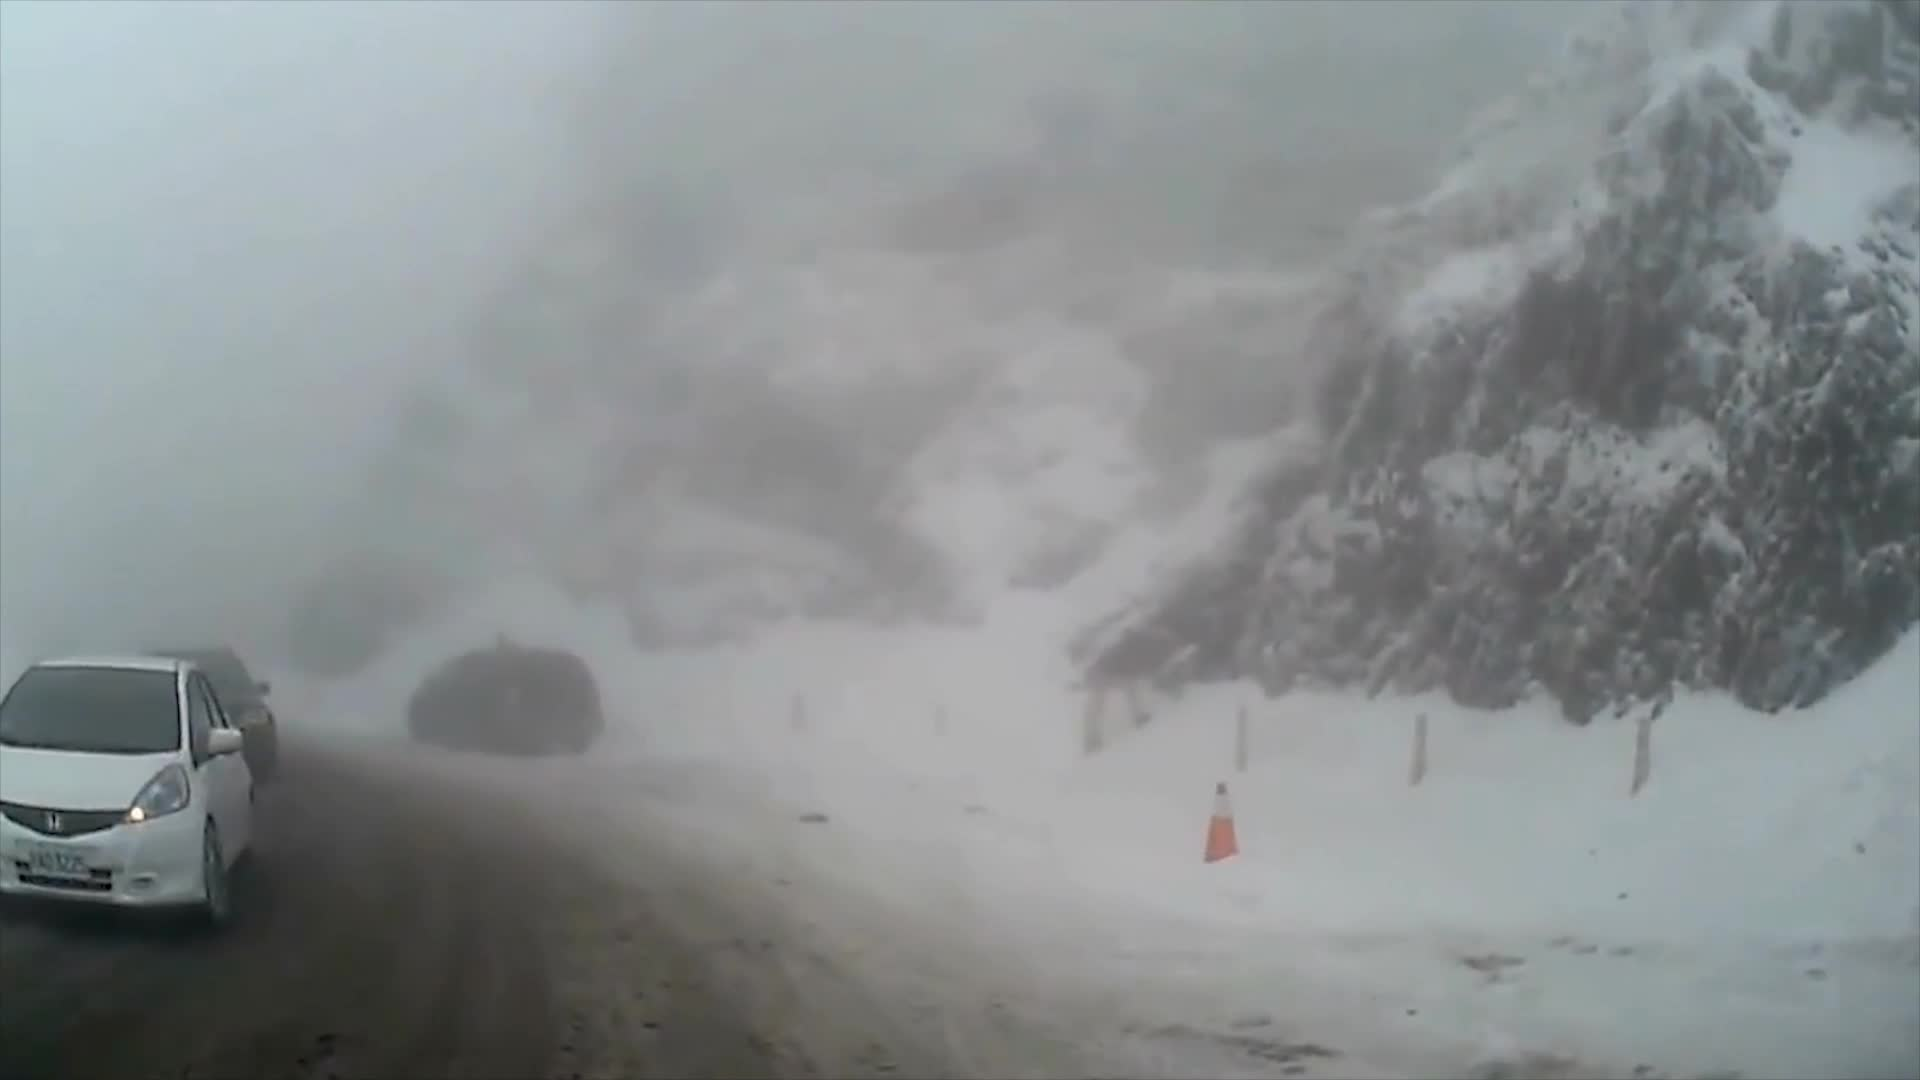vehicle: (0, 650, 261, 932), (411, 650, 607, 760)
